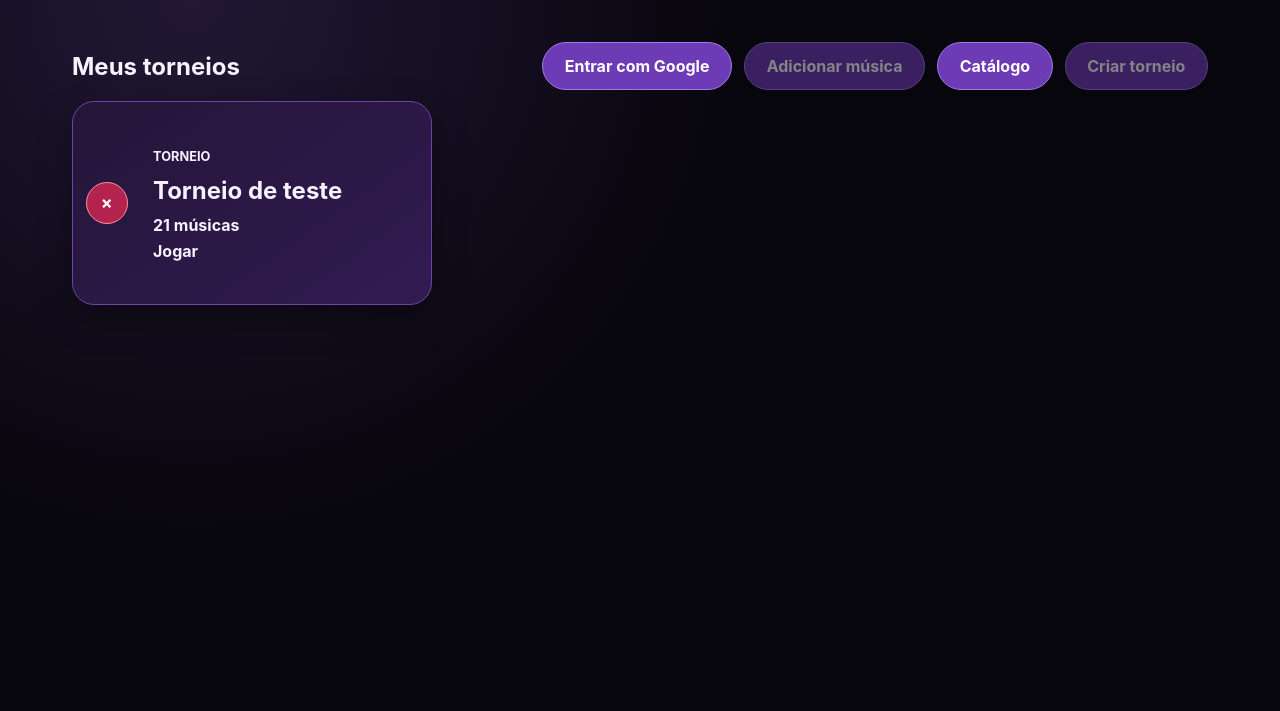
Test: Torneios e ranking › lista torneios e abre os detalhes do selecionado
Click the button "Torneio de teste" at (252, 203), box x1=97 y1=126 x2=407 y2=280
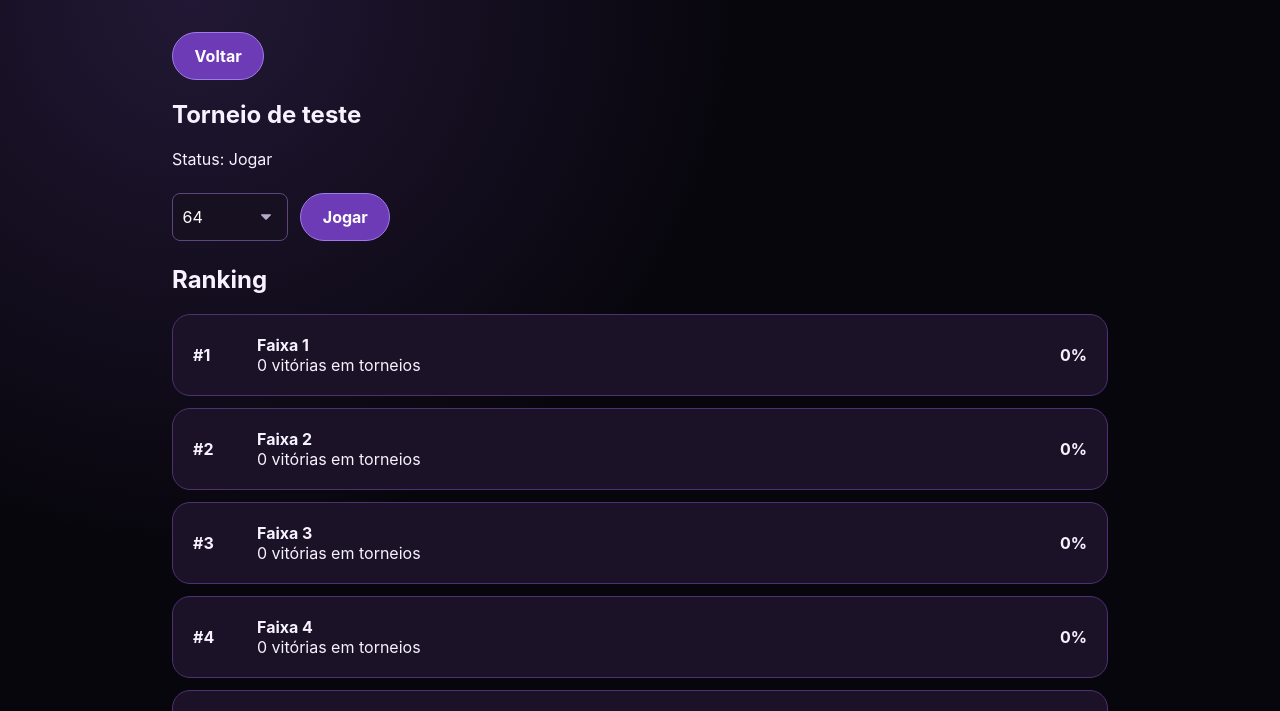
Check: the text "Faixa 1" is shown, box x1=257 y1=335 x2=309 y2=355
Check: the number of elements with class "ranking-card" is 20
